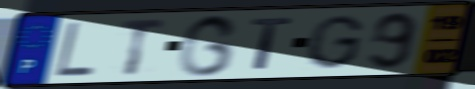9: (367, 10, 421, 71)
G: (175, 13, 241, 78), (302, 13, 368, 71)
L: (53, 20, 96, 78)
T: (119, 17, 169, 77), (248, 16, 296, 72)
